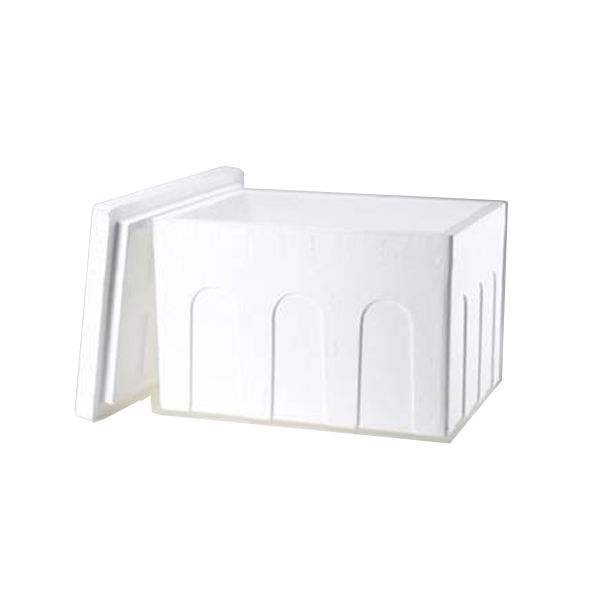Foam Box: (71, 162, 514, 448)
